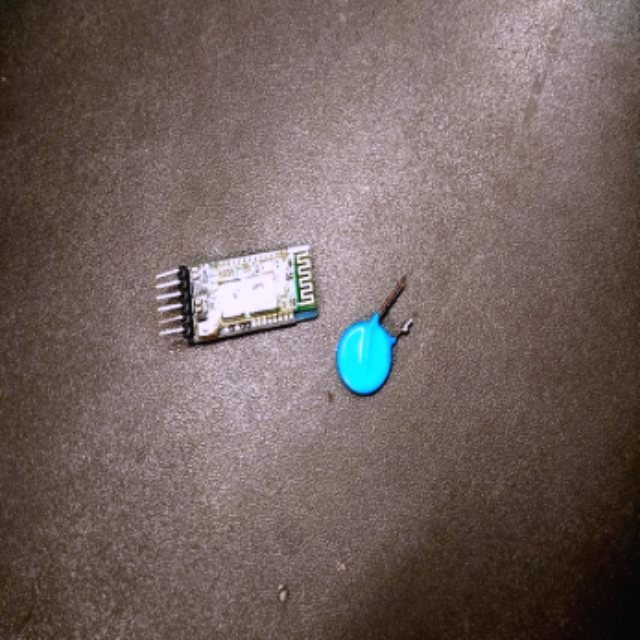capacitor: (335, 307, 401, 398)
